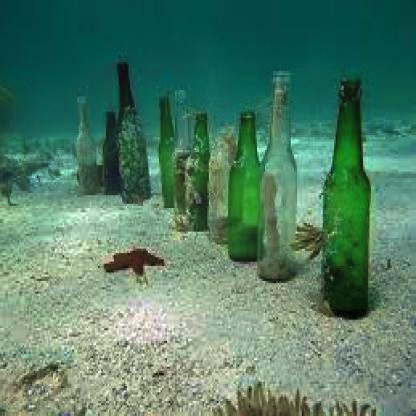gbottle: (321, 77, 371, 320), (260, 67, 297, 283), (231, 110, 265, 262), (117, 62, 148, 202), (210, 131, 240, 242), (191, 112, 211, 232), (174, 92, 191, 230), (159, 96, 177, 206), (77, 96, 96, 193), (103, 114, 120, 195)
